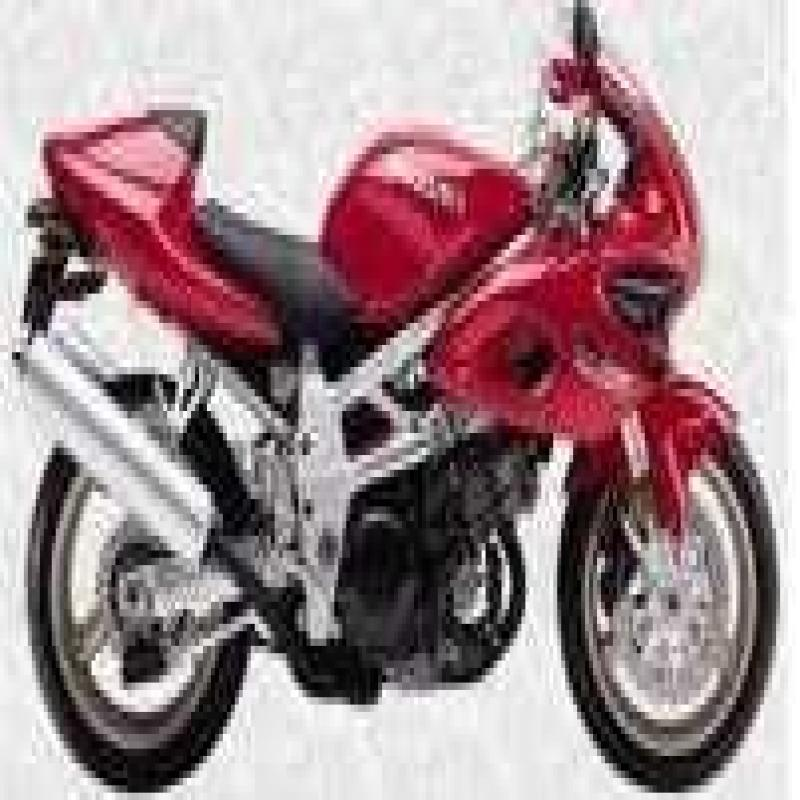bike: (10, 12, 784, 776)
